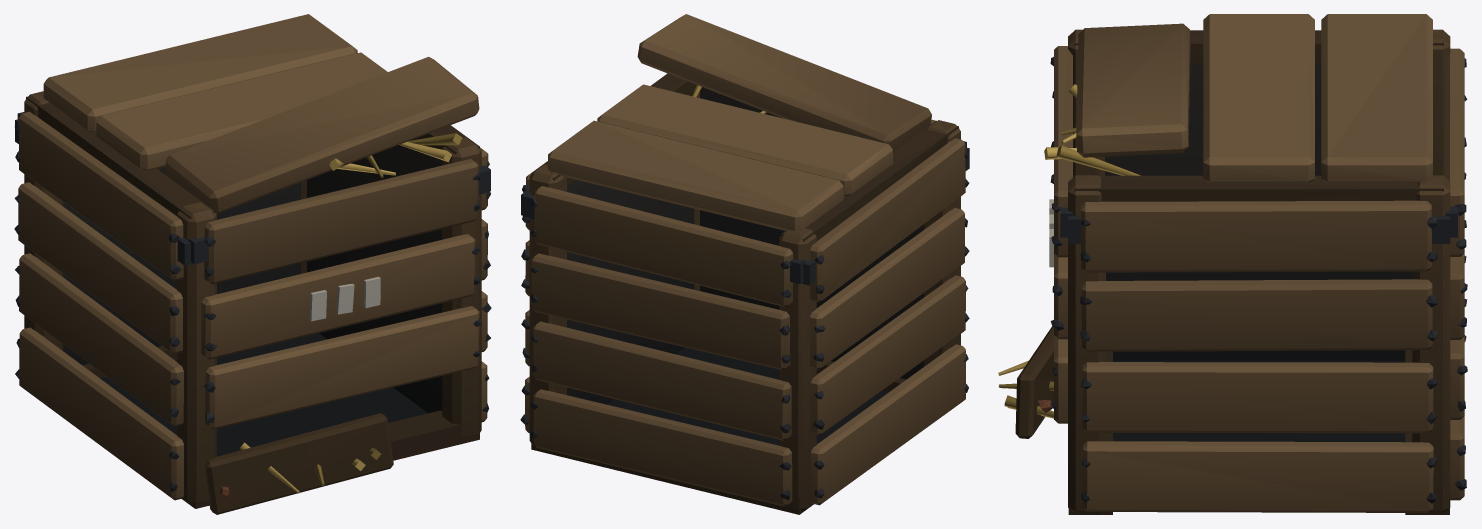
The model's file is dun-crate.glb.
3 views of the same model, side by side, from view 1: azimuth 30°, elevation 25°; view 2: azimuth 150°, elevation 25°; view 3: azimuth 270°, elevation 25° (orthographic). The views are drawn at different scales.
Visible parts, largest first — view 1: dun_crate; view 2: dun_crate; view 3: dun_crate.
Boxes of the visible parts, x1,y1,x2,y2 form: dun_crate: (14, 14, 491, 514); dun_crate: (520, 14, 969, 514); dun_crate: (998, 14, 1467, 514).
Size of the model in its own units: 0.6539 by 0.6904 by 0.736.
